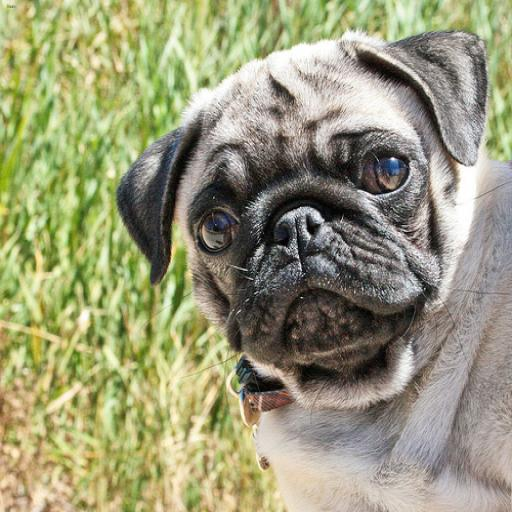dog_face: (126, 32, 492, 378)
